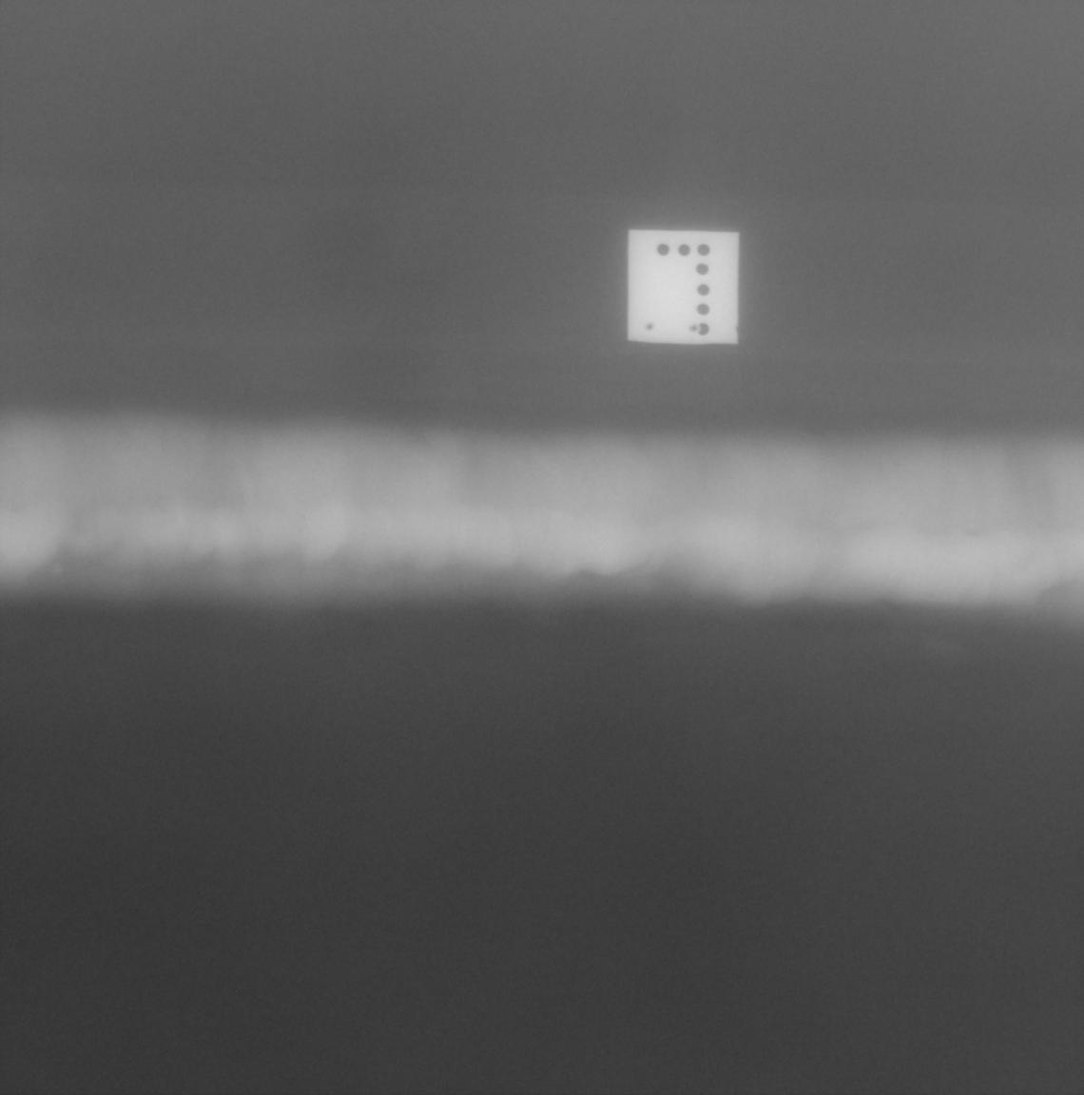Pore/Porosity: (299, 515, 306, 520)
